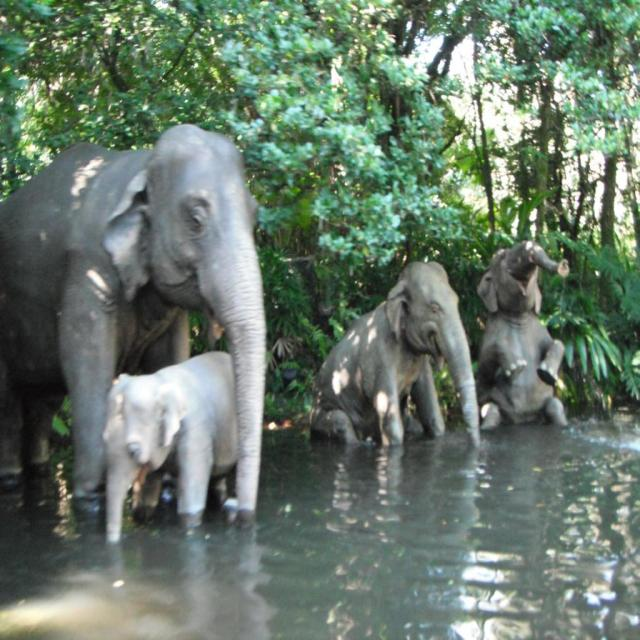Elephant: (0, 122, 267, 530), (308, 260, 481, 448), (102, 349, 239, 544), (474, 239, 570, 431)
